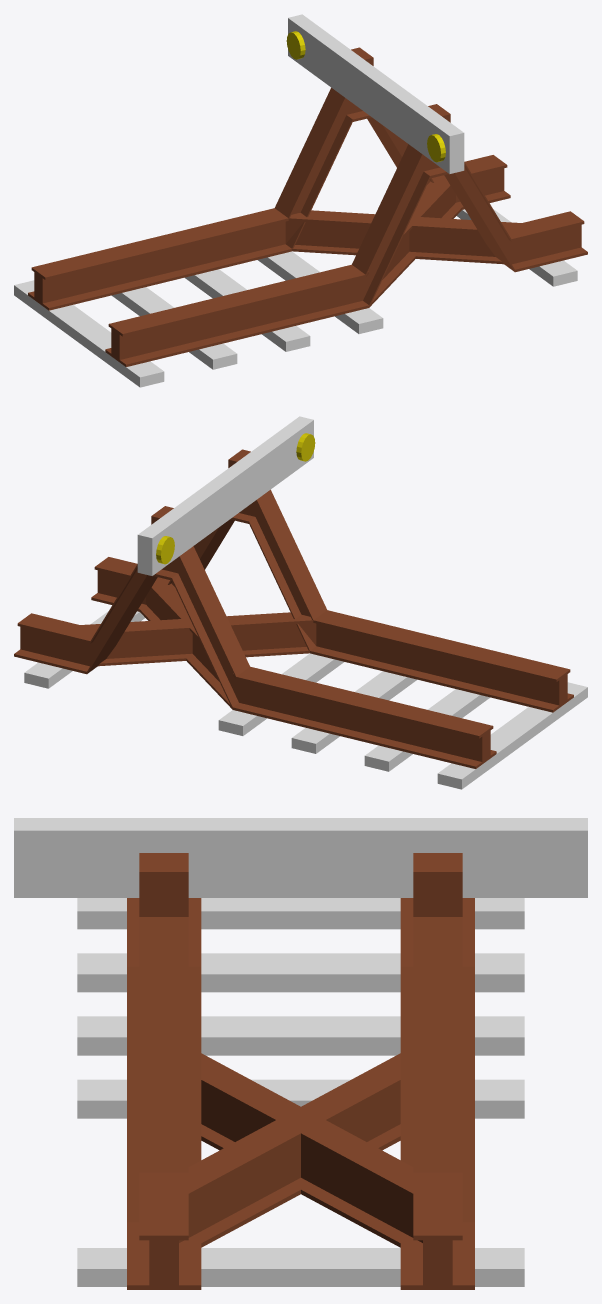
Rendered from RailwayBlockade.fbx.
The picture shows the model from 3 angles, top to bottom: view 1: azimuth 30°, elevation 25°; view 2: azimuth 150°, elevation 25°; view 3: azimuth 270°, elevation 25°; orthographic projection. The views are drawn at different scales.
Visible parts, largest first — view 1: Circle; view 2: Circle; view 3: Circle.
Boxes of the visible parts, left/top/right/bottom form: Circle: left=14, top=14, right=587, bottom=387; Circle: left=14, top=416, right=587, bottom=789; Circle: left=14, top=818, right=587, bottom=1289.
Size of the model in its own units: 3800 by 1519 by 2306.
